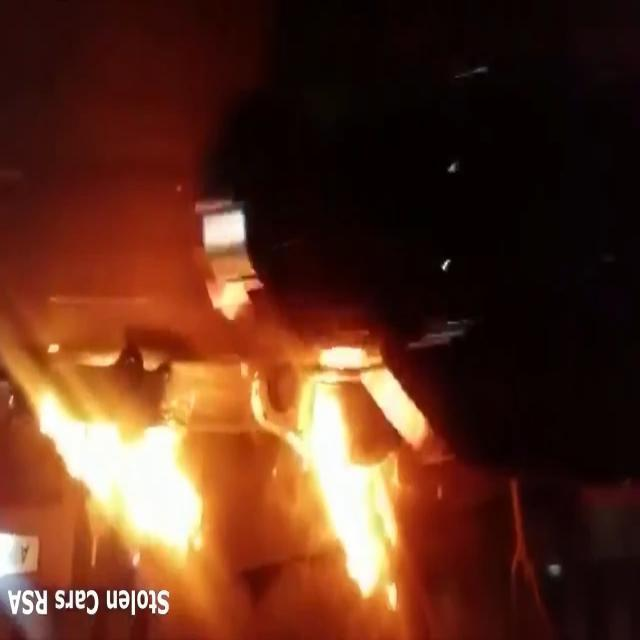fire: (41, 411, 206, 569), (305, 396, 395, 597)
